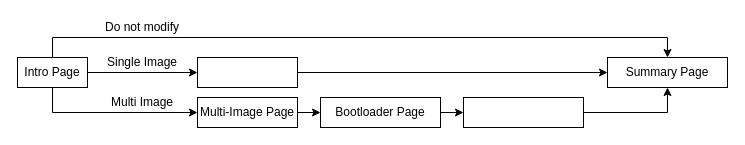
Some shapes in this 745 by 145 pixel diagram are drawn without their labels. Each missing label, with the centre of its shape:
Encryption Page: (247,72)
Offsets Page: (523,112)
